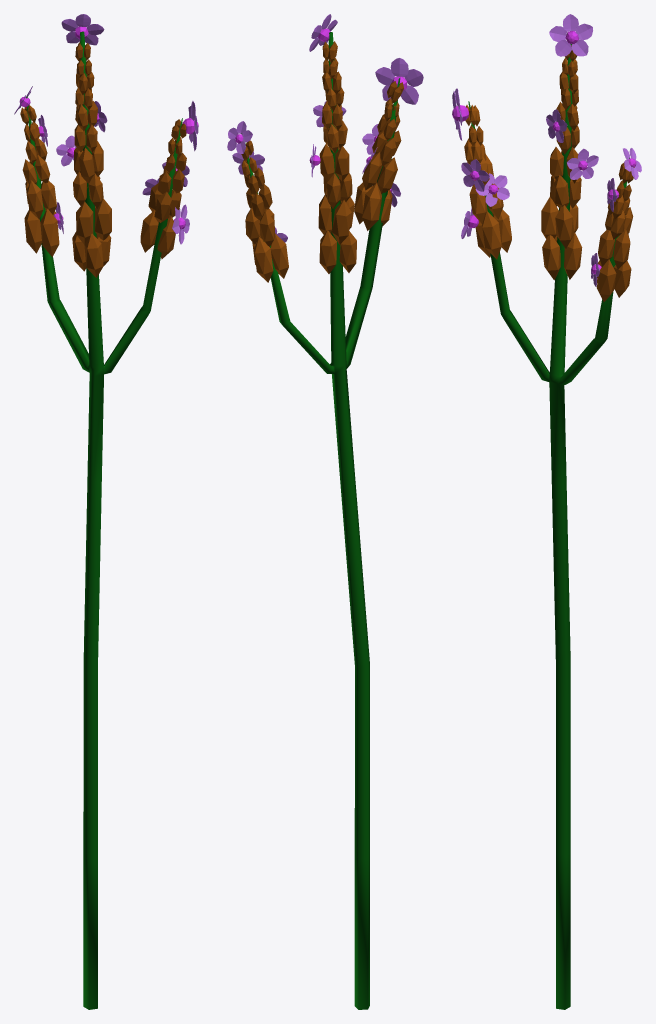
Rendered from VervainEdited.fbx.
3 renders of one model, left to right at view 1: azimuth 90°, elevation 25°; view 2: azimuth 150°, elevation 25°; view 3: azimuth 270°, elevation 25°, orthographic. The views are drawn at different scales.
Parts seen in each view (by area): view 1: Cylinder, Icosphere, Sphere.009, Sphere.003; view 2: Cylinder, Icosphere, Sphere.005, Sphere.012, Sphere.009; view 3: Cylinder, Icosphere, Sphere.009, Sphere.007, Sphere.006, Sphere.004, Sphere.008.
Part boxes in pixels (x1=…): Cylinder: x1=26, y1=31, x2=182, y2=1009; Icosphere: x1=20, y1=41, x2=186, y2=277; Sphere.009: x1=61, y1=14, x2=104, y2=45; Sphere.003: x1=172, y1=204, x2=189, y2=244; Cylinder: x1=241, y1=32, x2=400, y2=1009; Icosphere: x1=241, y1=41, x2=403, y2=282; Sphere.005: x1=375, y1=58, x2=423, y2=104; Sphere.012: x1=227, y1=121, x2=252, y2=153; Sphere.009: x1=309, y1=14, x2=337, y2=51; Cylinder: x1=468, y1=43, x2=629, y2=1009; Icosphere: x1=464, y1=45, x2=634, y2=301; Sphere.009: x1=549, y1=14, x2=592, y2=56; Sphere.007: x1=567, y1=148, x2=598, y2=179; Sphere.006: x1=475, y1=173, x2=509, y2=206; Sphere.004: x1=461, y1=159, x2=489, y2=191; Sphere.008: x1=546, y1=109, x2=567, y2=142.
Size of the model in its own units: 95.26 by 815 by 139.
